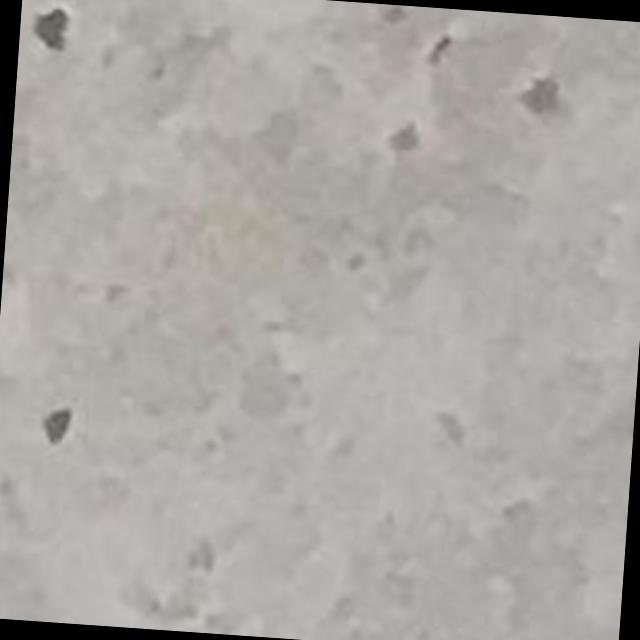peeling plaster: (34, 6, 67, 51)
